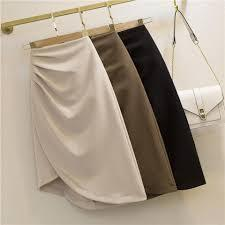skirt: (17, 38, 141, 218)
